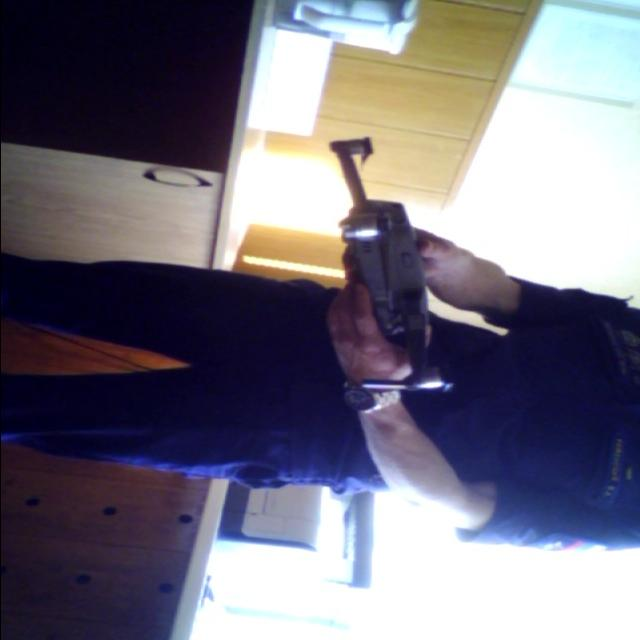drone: (308, 121, 459, 426)
